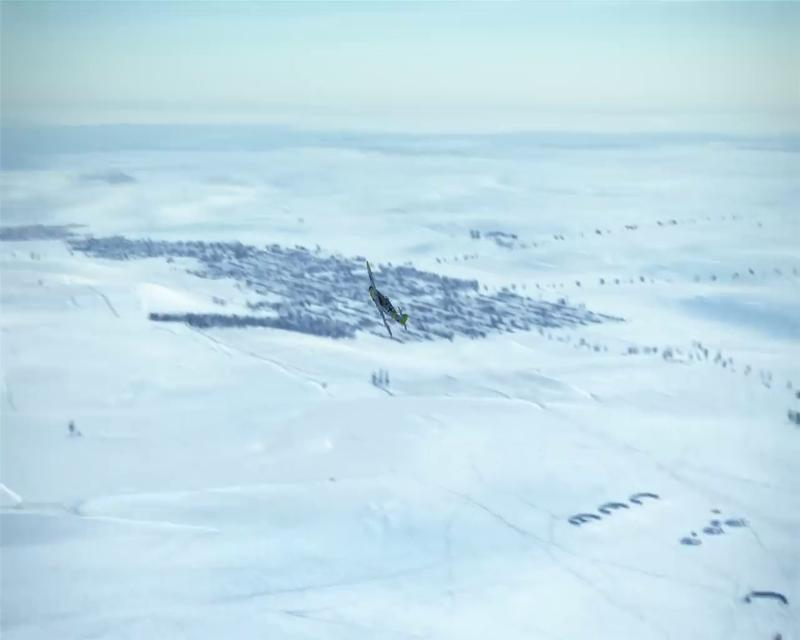UAV: (366, 260, 409, 338)
